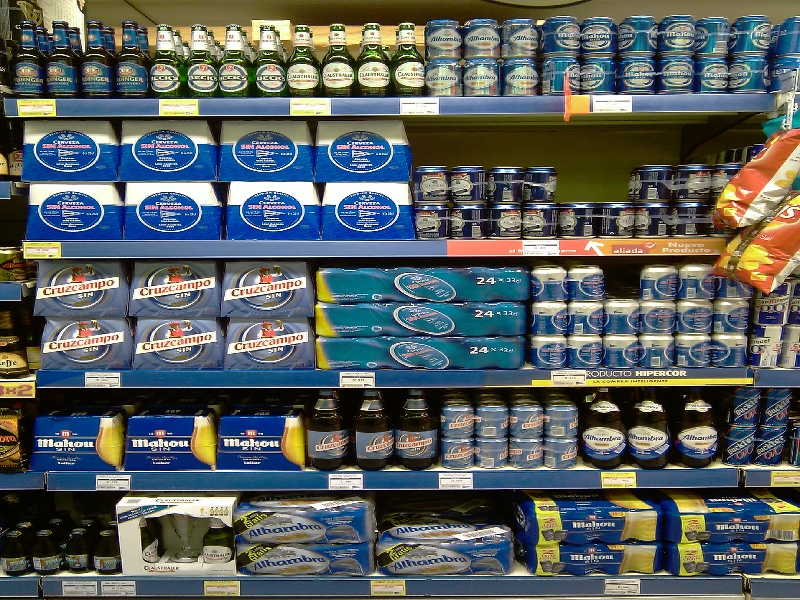beer: (638, 262, 683, 306), (540, 53, 582, 97), (501, 18, 544, 60), (425, 56, 466, 100), (540, 16, 584, 57), (620, 12, 661, 56), (656, 54, 697, 97), (463, 18, 504, 60), (633, 163, 674, 205), (423, 15, 462, 59), (462, 56, 503, 97), (580, 56, 620, 98), (605, 334, 645, 376), (619, 54, 659, 95), (597, 201, 638, 241), (568, 263, 608, 303), (504, 55, 542, 97), (659, 18, 701, 56), (450, 163, 490, 202), (524, 203, 563, 243), (488, 167, 526, 208), (524, 165, 560, 208), (564, 299, 606, 335), (558, 202, 598, 239), (583, 19, 619, 56), (456, 205, 491, 242), (493, 205, 525, 241)
